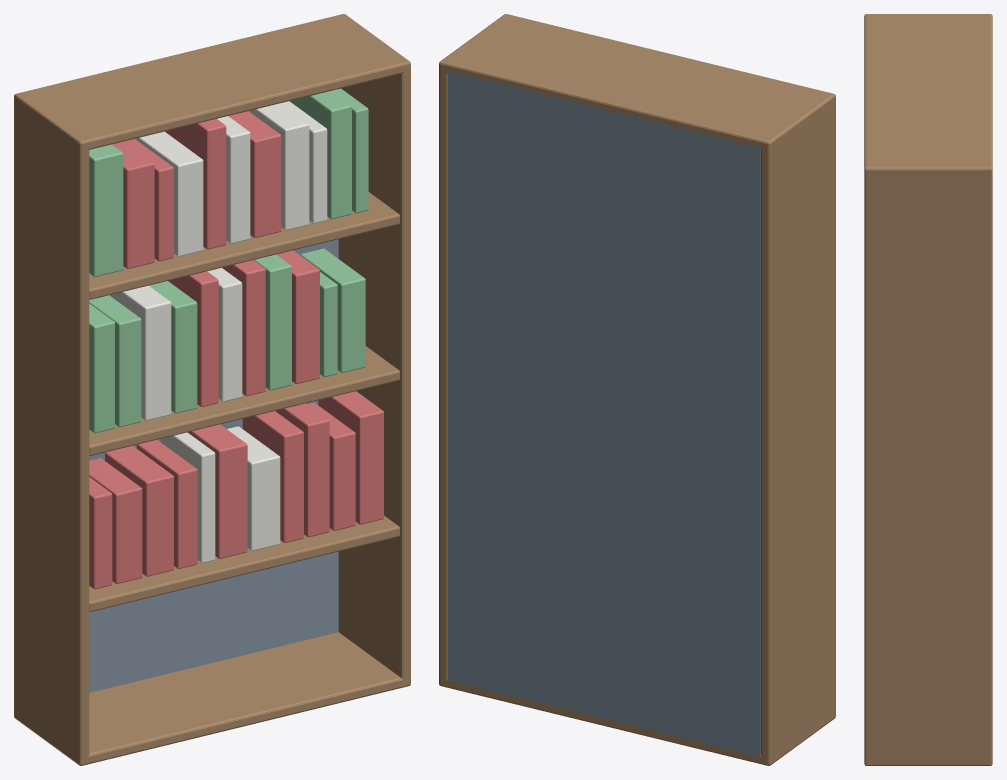
Rendered from estante.glb.
The picture shows the model from 3 angles, left to right: view 1: azimuth 30°, elevation 25°; view 2: azimuth 150°, elevation 25°; view 3: azimuth 270°, elevation 25°; orthographic projection. The views are drawn at different scales.
Visible parts, largest first — view 1: Lateral, Lateral.001, Topo, Fundo, Base, Prateleira.001, Prateleira.002, Prateleira, Livro.002, Livro.005, Livro.022, Livro.013 (+29 smaller); view 2: Fundo, Lateral, Topo, Lateral.001, Base; view 3: Lateral.001, Topo, Base.
Part boxes in pixels (box(x1,y1,x2,y2)): Lateral: box(14, 93, 89, 765); Lateral.001: box(338, 54, 410, 687); Topo: box(15, 14, 410, 149); Fundo: box(89, 131, 338, 692); Base: box(14, 632, 410, 765); Prateleira.001: box(89, 346, 399, 455); Prateleira.002: box(89, 192, 399, 299); Prateleira: box(89, 515, 399, 611); Livro.002: box(105, 446, 173, 576); Livro.005: box(188, 424, 247, 558); Livro.022: box(89, 144, 123, 276); Livro.013: box(109, 285, 171, 420); Fundo: box(448, 71, 760, 757); Lateral: box(760, 94, 835, 765); Topo: box(440, 14, 835, 150); Lateral.001: box(439, 41, 468, 686); Base: box(439, 678, 835, 765); Lateral.001: box(864, 164, 992, 765); Topo: box(864, 14, 992, 176); Base: box(866, 759, 989, 764).
Size of the model in its own units: 1 by 1.8 by 0.35.
